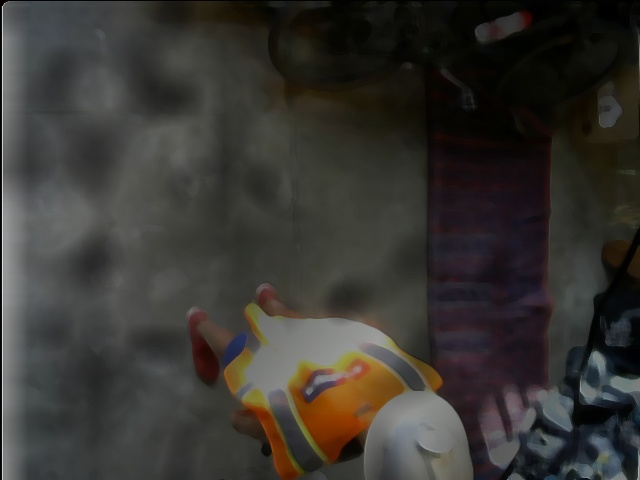two: (413, 417, 457, 454)
